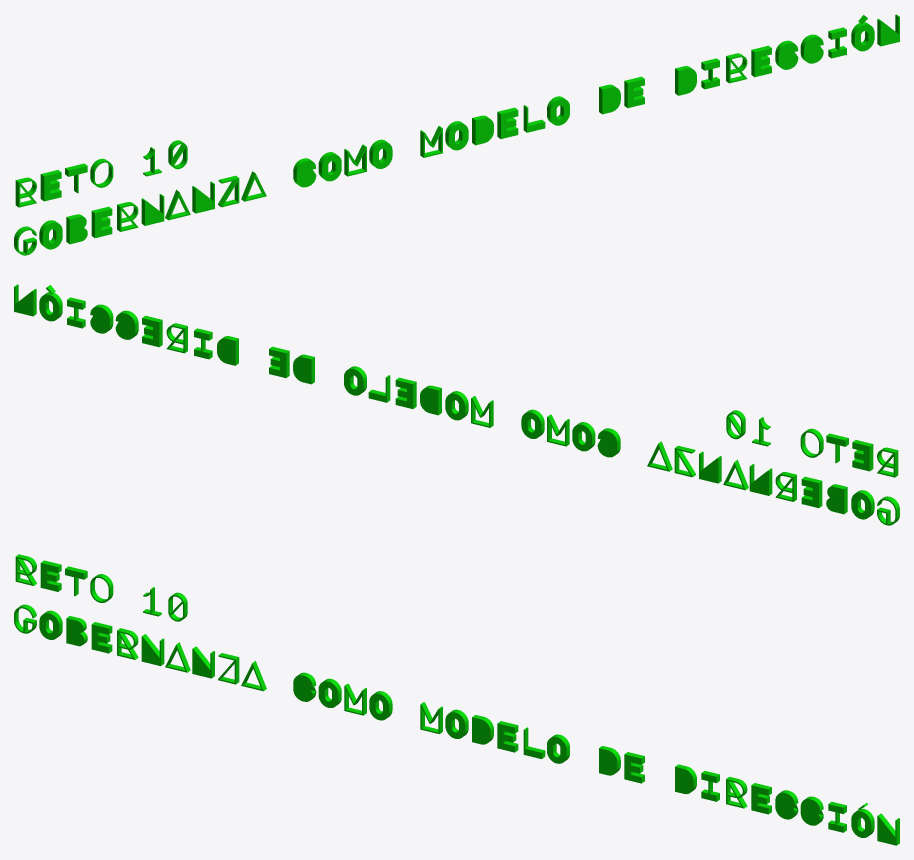
File: RETO10.fbx
The picture shows the model from 3 angles, top to bottom: view 1: azimuth 30°, elevation 25°; view 2: azimuth 150°, elevation 25°; view 3: azimuth 330°, elevation 25°; orthographic projection.
Parts seen in each view (by area): view 1: typeMesh10; view 2: typeMesh10; view 3: typeMesh10.
Boxes of the visible parts, x1,y1,x2,y2 form: typeMesh10: (14,14,899,255); typeMesh10: (14,284,899,525); typeMesh10: (14,554,899,845).
Bounding box in the file's own units: 376 × 30.66 × 2.5.
